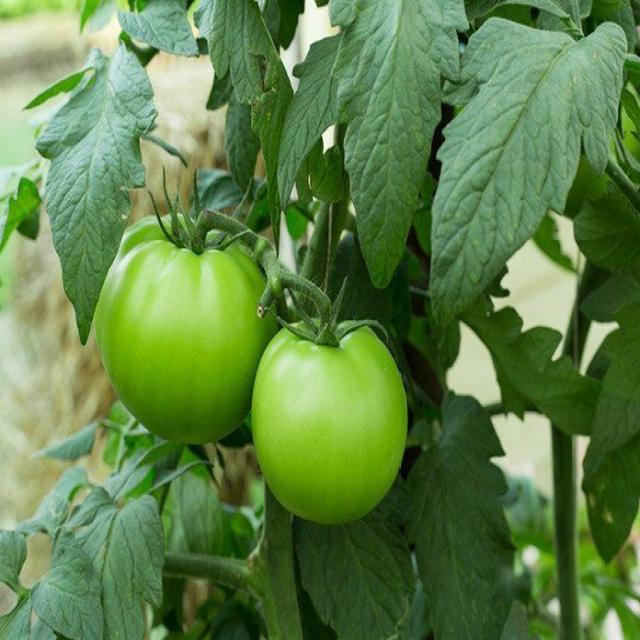level 2: (94, 212, 280, 446), (252, 315, 408, 525)
